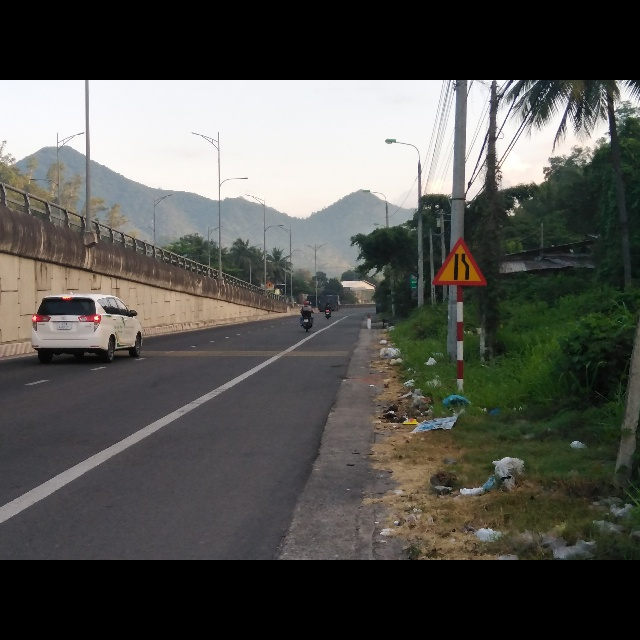Đường bị hẹp bên phải: (432, 238, 489, 287)
